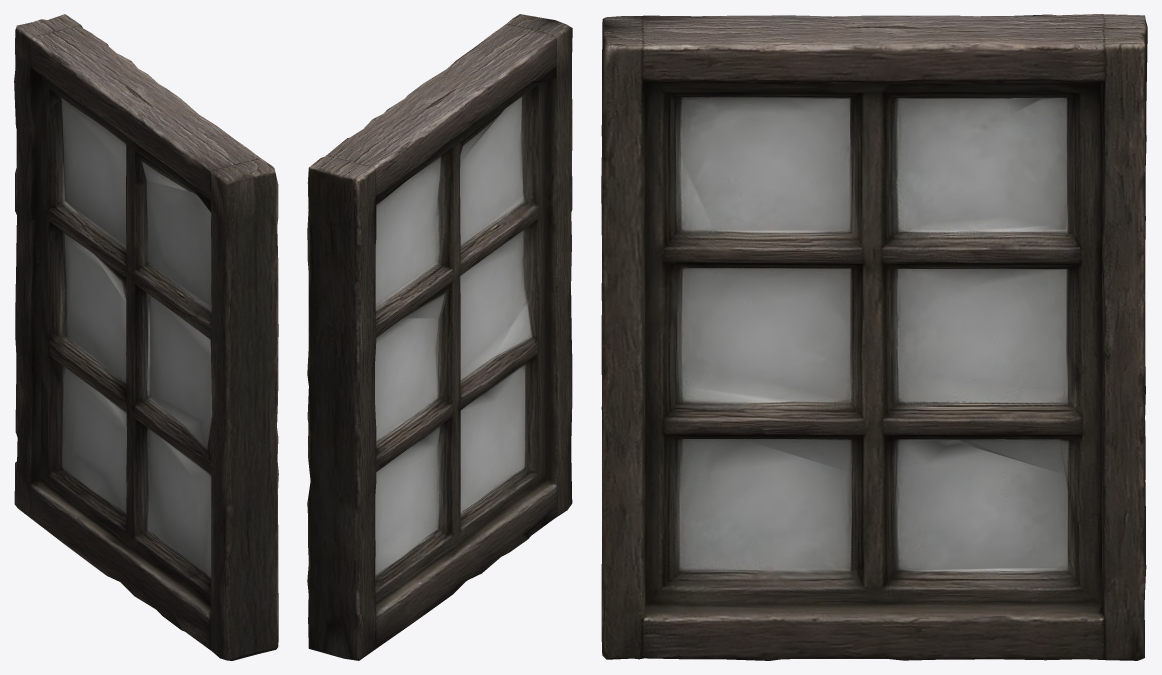
The model's file is post_office_frosted_window.glb.
3 views of the same model, side by side, from view 1: azimuth 30°, elevation 25°; view 2: azimuth 150°, elevation 25°; view 3: azimuth 270°, elevation 25° (orthographic). The views are drawn at different scales.
Visible parts, largest first — view 1: tripo_node_bece2580-a638-4b84-97c9-537a52105684; view 2: tripo_node_bece2580-a638-4b84-97c9-537a52105684; view 3: tripo_node_bece2580-a638-4b84-97c9-537a52105684.
Boxes of the visible parts, x1,y1,x2,y2 form: tripo_node_bece2580-a638-4b84-97c9-537a52105684: (14, 14, 278, 660); tripo_node_bece2580-a638-4b84-97c9-537a52105684: (307, 14, 572, 660); tripo_node_bece2580-a638-4b84-97c9-537a52105684: (601, 14, 1147, 660).
Bounding box in the file's own units: 0.1196 × 1 × 0.8044.
Materials: 1 (1 with a texture image).
